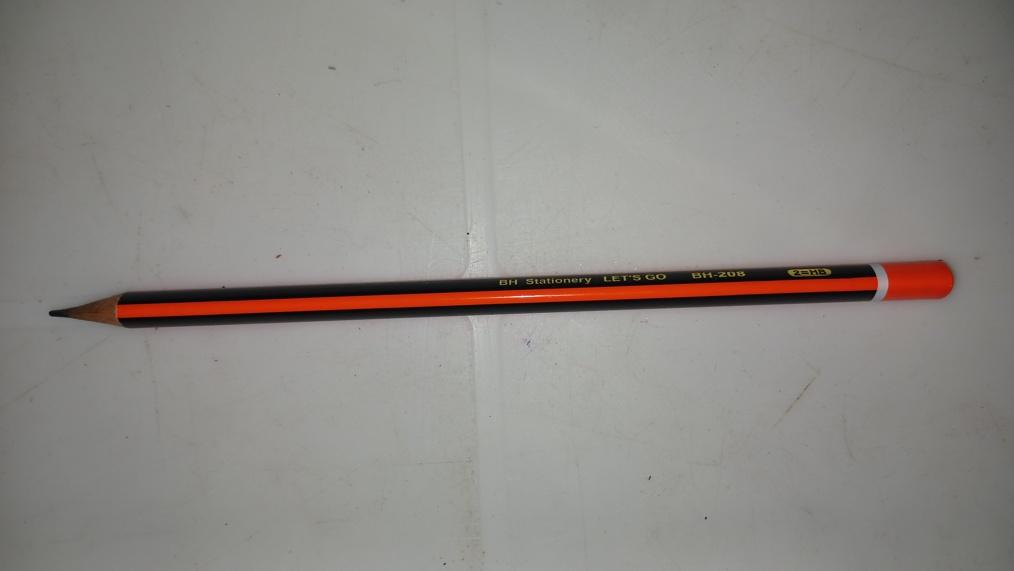Pencil: (48, 259, 953, 328)
